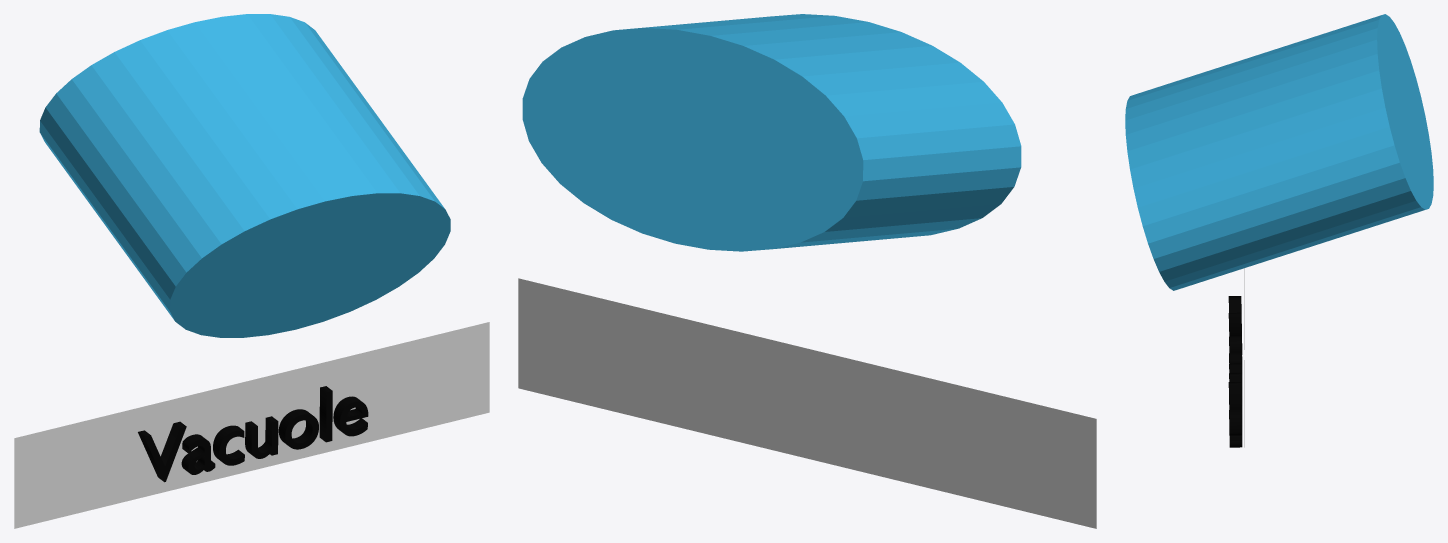
The model's file is vacuole1.gltf.
3 views of the same model, side by side, from view 1: azimuth 30°, elevation 25°; view 2: azimuth 150°, elevation 25°; view 3: azimuth 270°, elevation 25° (orthographic). The views are drawn at different scales.
Visible parts, largest first — view 1: Cylinder.001, Plane.011, Text.016; view 2: Cylinder.001, Plane.011; view 3: Cylinder.001, Text.016.
Boxes of the visible parts, <box> form: Cylinder.001: <box>39,14,450,337</box>; Plane.011: <box>14,322,489,528</box>; Text.016: <box>138,386,368,482</box>; Cylinder.001: <box>522,14,1021,251</box>; Plane.011: <box>518,278,1096,528</box>; Cylinder.001: <box>1125,14,1433,290</box>; Text.016: <box>1228,296,1242,447</box>.
Bounding box in the file's own units: 1.33 × 1.06 × 0.7751.
